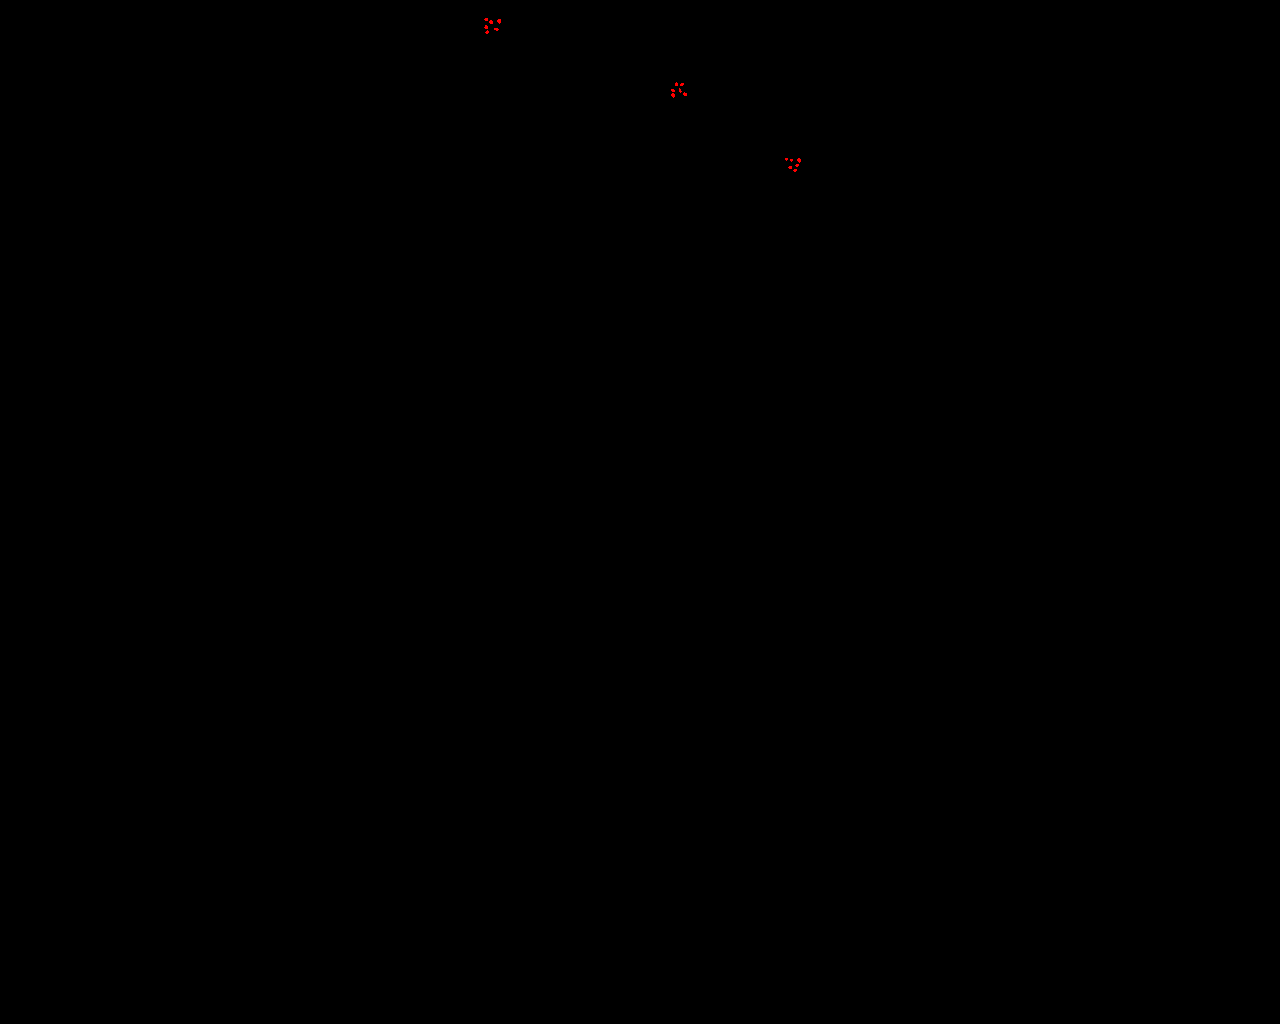Target: (671, 93, 675, 98), (797, 158, 801, 163), (489, 20, 493, 24), (484, 25, 488, 29), (485, 30, 489, 34), (497, 19, 501, 24), (494, 28, 499, 31), (679, 88, 682, 93), (484, 18, 488, 21), (675, 82, 678, 86), (680, 83, 684, 86), (671, 89, 675, 92), (683, 92, 686, 96), (795, 164, 799, 167), (788, 166, 792, 169), (793, 169, 797, 172), (785, 158, 788, 161), (790, 159, 793, 162)
